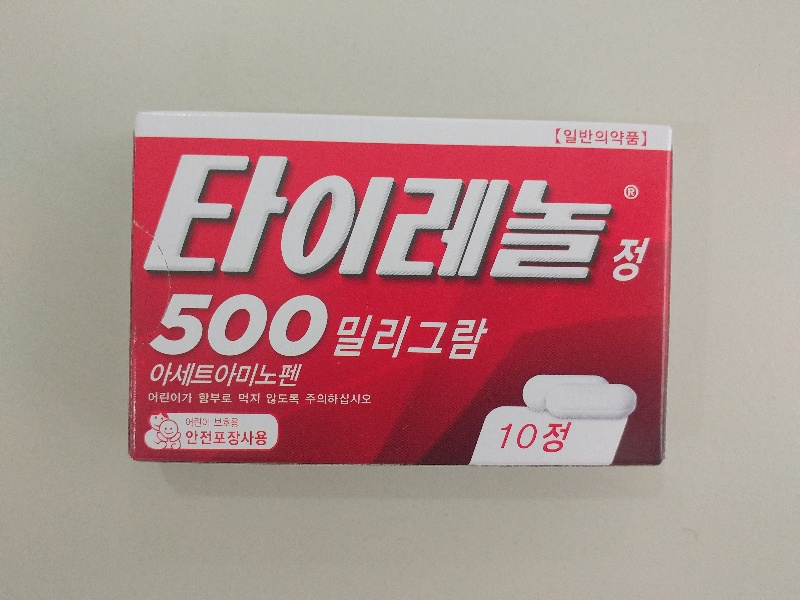tylenol: (132, 112, 663, 467)
